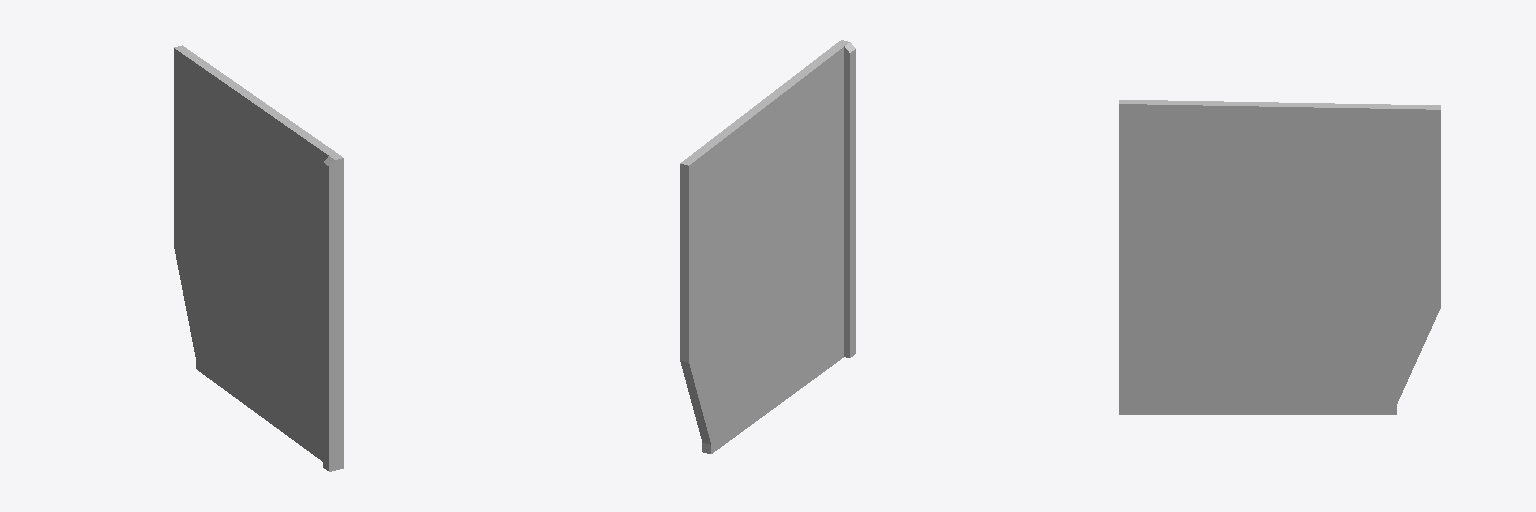
File: doorR.obj
The picture shows the model from 3 angles: view 1: azimuth 30°, elevation 25°; view 2: azimuth 150°, elevation 25°; view 3: azimuth 270°, elevation 25°; orthographic projection.
Visible parts, largest first — view 1: Door_R_Plane.002; view 2: Door_R_Plane.002; view 3: Door_R_Plane.002.
Boxes of the visible parts, x1=… form: Door_R_Plane.002: x1=174, y1=45, x2=343, y2=471; Door_R_Plane.002: x1=680, y1=40, x2=855, y2=453; Door_R_Plane.002: x1=1119, y1=100, x2=1440, y2=414.
Size of the model in its own units: 0.1343 by 2.75 by 2.59.